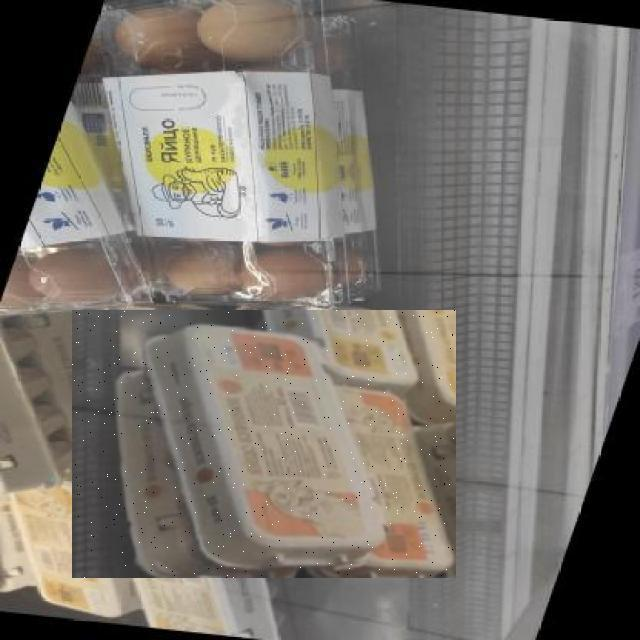Eggs: (72, 310, 456, 578)
